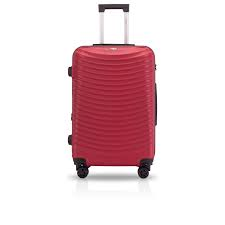suitcase: (66, 1, 161, 179)
